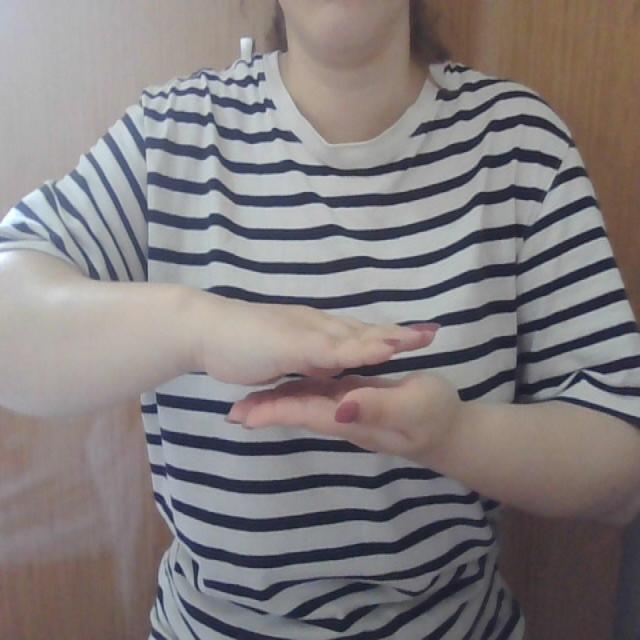Arkadas: (169, 284, 515, 471)
